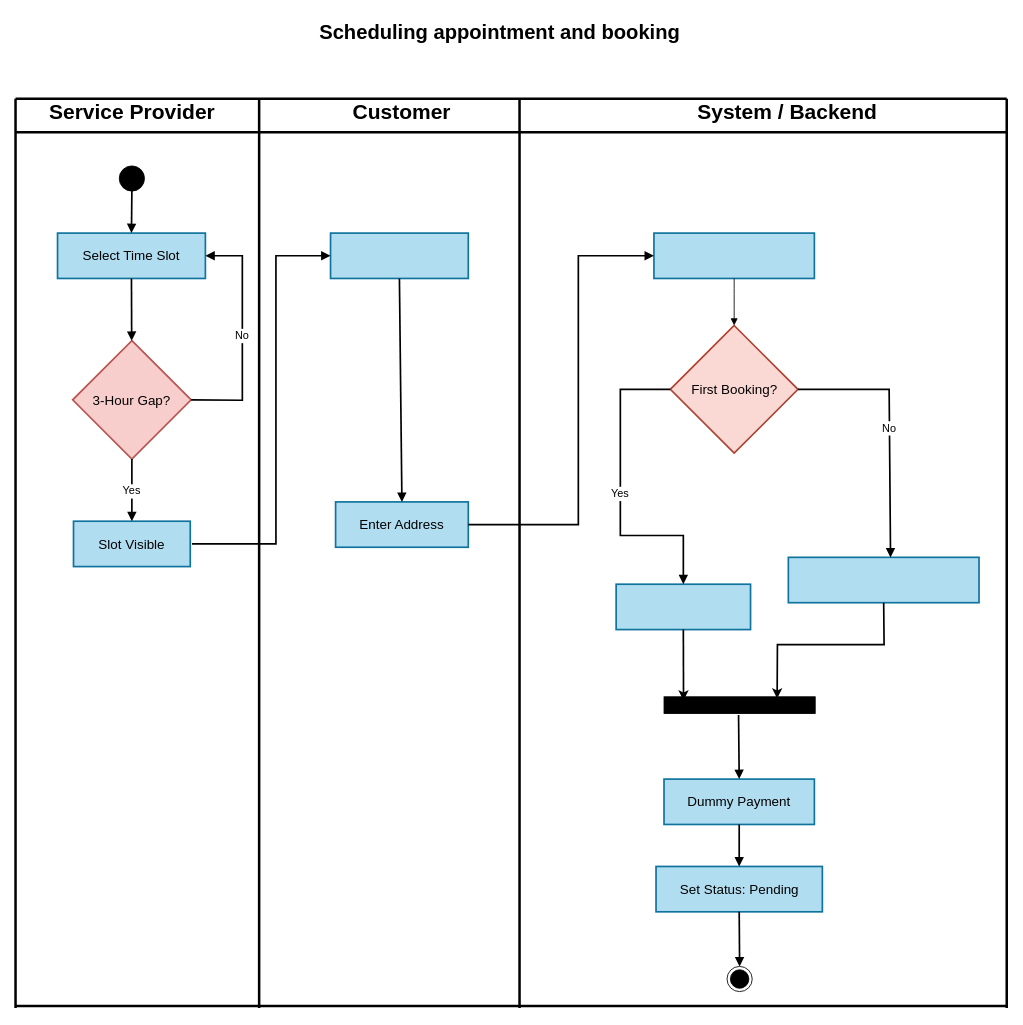
Image size: 1023x1025. Some labels were removed from this diagram. The shapes that lost their labels are listed below. From the top down, each one's box as (x1, y1, x2, y2) in pixels, then its label:
(329, 232, 469, 279): Search Service
(653, 232, 815, 279): Auto-Save Address
(787, 556, 979, 603): Price + 2% Tax + 5% Fee
(615, 583, 751, 630): Price + 2% Tax
